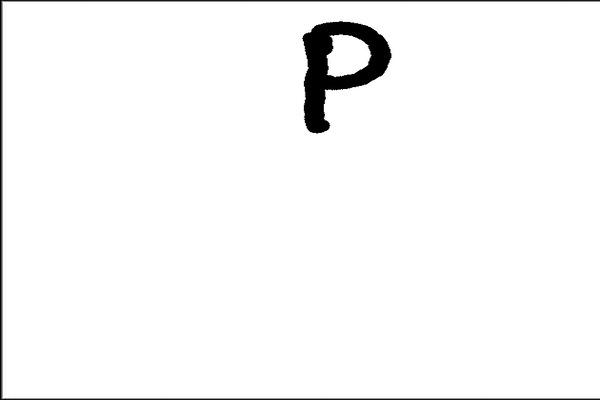P: (292, 15, 396, 138)
